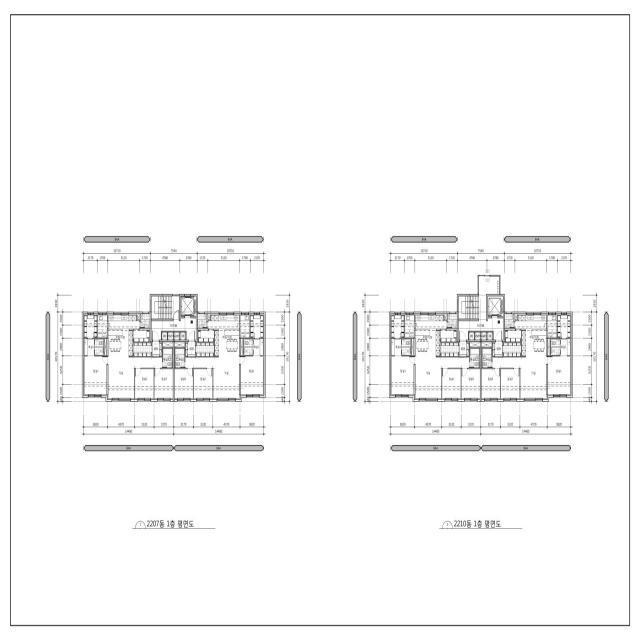space_bedroom: (241, 356, 264, 396), (391, 356, 414, 396), (84, 356, 107, 396), (548, 356, 571, 396), (154, 369, 173, 399), (442, 369, 461, 399), (461, 369, 480, 399), (135, 369, 154, 399), (501, 369, 520, 399), (194, 369, 212, 399), (175, 369, 193, 399), (482, 369, 500, 399)
space_dressroom: (83, 314, 97, 338), (558, 314, 571, 338), (391, 314, 404, 338), (251, 314, 264, 338)
space_elevator: (181, 296, 196, 316), (488, 296, 503, 316)
space_elevator_hall: (459, 276, 503, 340), (151, 318, 196, 340)
space_front: (196, 342, 214, 356), (503, 342, 521, 356), (133, 343, 151, 356), (440, 343, 458, 356), (459, 342, 469, 356), (152, 342, 162, 356), (186, 342, 195, 356), (493, 342, 502, 356)
space_kitchen: (207, 314, 239, 357), (108, 314, 140, 357), (415, 314, 447, 357), (515, 314, 546, 357), (133, 330, 149, 342), (198, 330, 214, 342), (440, 330, 456, 342), (505, 330, 521, 342)
space_living_room: (107, 357, 162, 399), (414, 357, 469, 399), (185, 357, 240, 399), (492, 357, 547, 399)
space_other: (547, 314, 557, 338), (240, 314, 250, 338), (405, 314, 414, 338), (98, 314, 107, 338), (482, 342, 492, 347), (175, 342, 185, 347), (163, 342, 173, 347), (470, 342, 480, 347), (481, 332, 487, 340), (180, 332, 186, 340), (487, 332, 493, 340), (475, 332, 480, 340), (162, 332, 167, 340), (469, 332, 474, 340), (174, 332, 179, 340), (168, 332, 173, 340), (548, 339, 550, 355), (412, 339, 414, 355), (105, 339, 107, 355), (241, 339, 243, 355), (207, 314, 210, 320), (515, 314, 517, 320)
space_outdoor_room: (448, 314, 457, 328), (505, 314, 514, 328), (198, 314, 207, 328), (141, 314, 150, 328)
space_staircase: (151, 296, 179, 319), (459, 296, 479, 319)
space_toilet: (482, 348, 492, 368), (175, 348, 184, 368), (163, 348, 172, 368), (470, 348, 479, 368), (253, 339, 264, 355), (560, 339, 571, 355), (84, 339, 94, 355), (392, 339, 401, 355), (95, 347, 104, 355), (95, 339, 104, 347), (244, 347, 253, 355), (402, 347, 411, 355), (551, 347, 560, 355), (402, 339, 411, 347), (244, 339, 253, 347), (551, 339, 560, 347)
